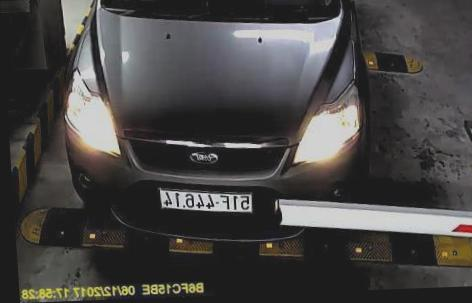License_Plate: (150, 184, 260, 218)
